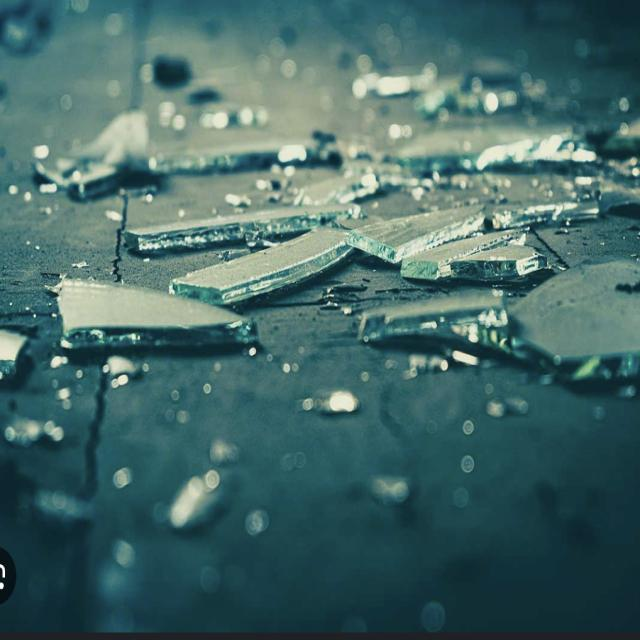PecahanKaca: (54, 273, 260, 352), (170, 226, 355, 309), (399, 230, 550, 285), (132, 214, 334, 250), (355, 204, 485, 259)
